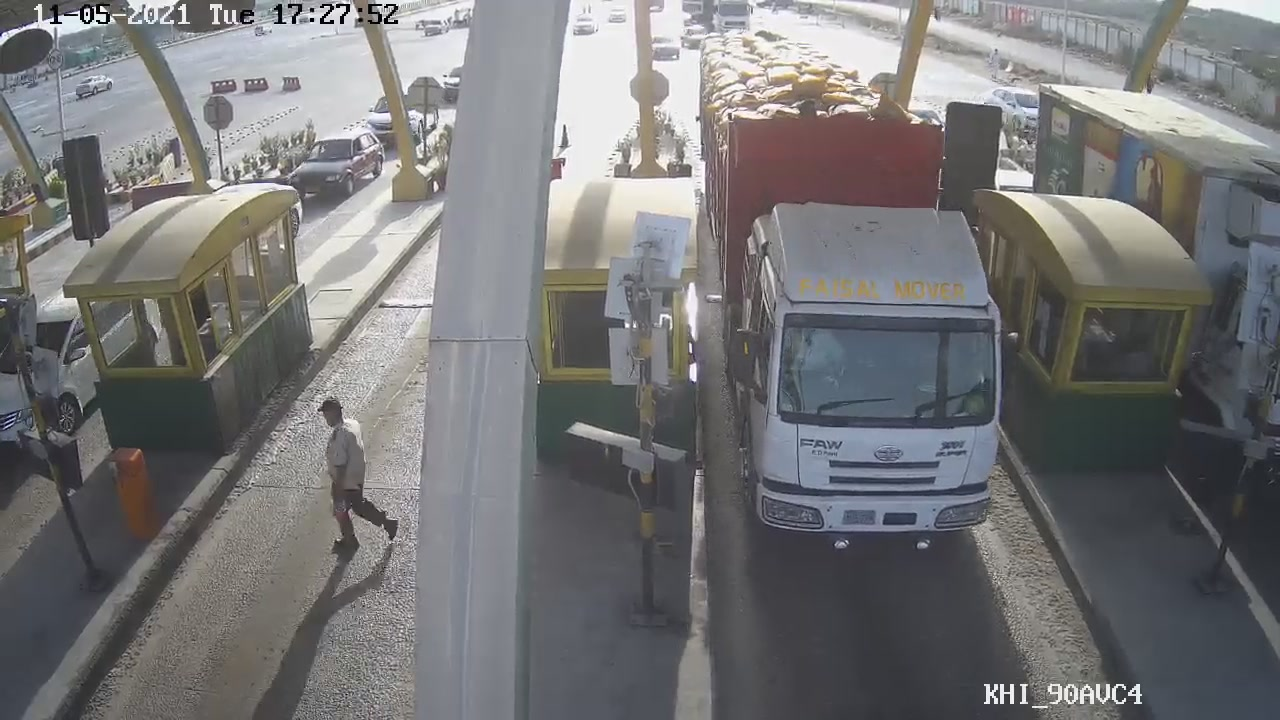F6: (699, 11, 1005, 563)
